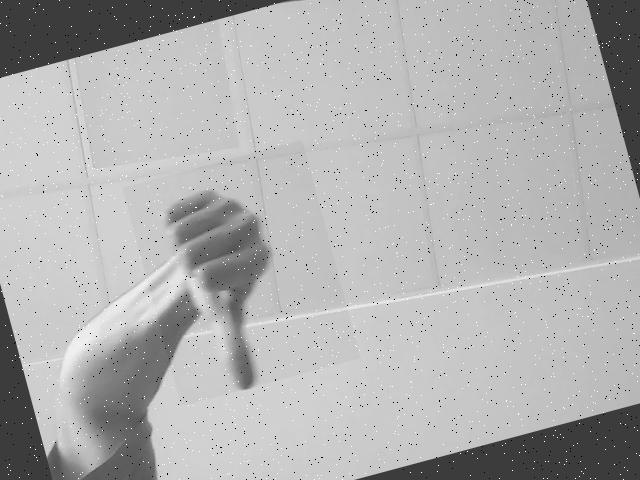bad: (122, 139, 360, 406)
